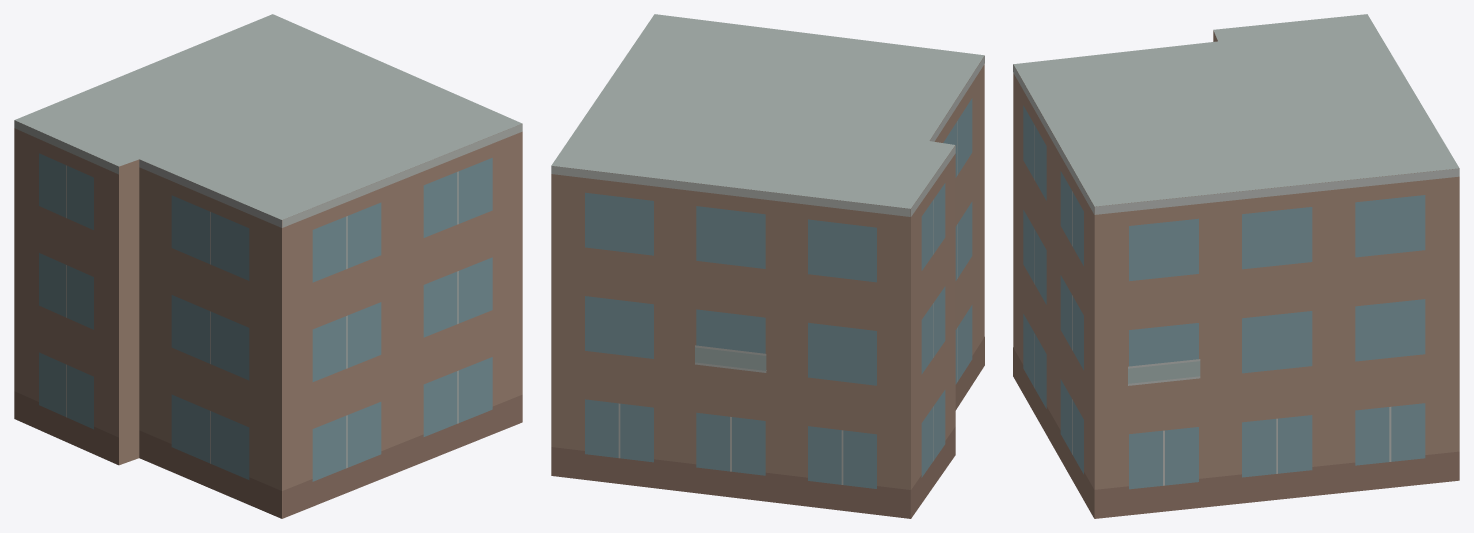
File: survey-upis-32715344.glb
3 renders of one model, left to right at view 1: azimuth 30°, elevation 25°; view 2: azimuth 150°, elevation 25°; view 3: azimuth 270°, elevation 25°, orthographic. The views are drawn at different scales.
Visible parts, largest first — view 1: survey-upis-32715344.tmp; view 2: survey-upis-32715344.tmp; view 3: survey-upis-32715344.tmp.
Part boxes in pixels (x1=…): survey-upis-32715344.tmp: x1=14, y1=14, x2=522, y2=518; survey-upis-32715344.tmp: x1=551, y1=14, x2=984, y2=518; survey-upis-32715344.tmp: x1=1013, y1=14, x2=1459, y2=518.
Size of the model in its own units: 12.11 by 9.15 by 11.86.
